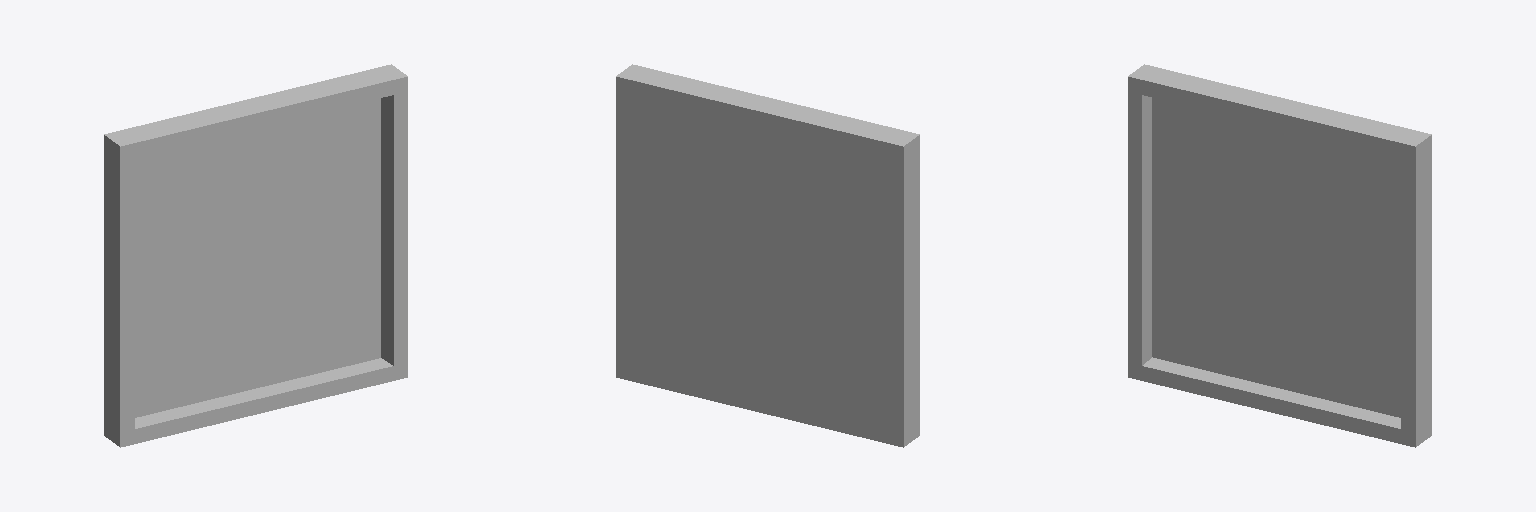
File: comp_window_3.obj
The picture shows the model from 3 angles: view 1: azimuth 30°, elevation 25°; view 2: azimuth 150°, elevation 25°; view 3: azimuth 330°, elevation 25°; orthographic projection.
Visible parts, largest first — view 1: pCube7; view 2: pCube7; view 3: pCube7.
Boxes of the visible parts, x1,y1,x2,y2 form: pCube7: [104, 64, 407, 447]; pCube7: [616, 64, 919, 447]; pCube7: [1128, 64, 1431, 447].
Bounding box in the file's own units: 2 × 2 × 0.2.